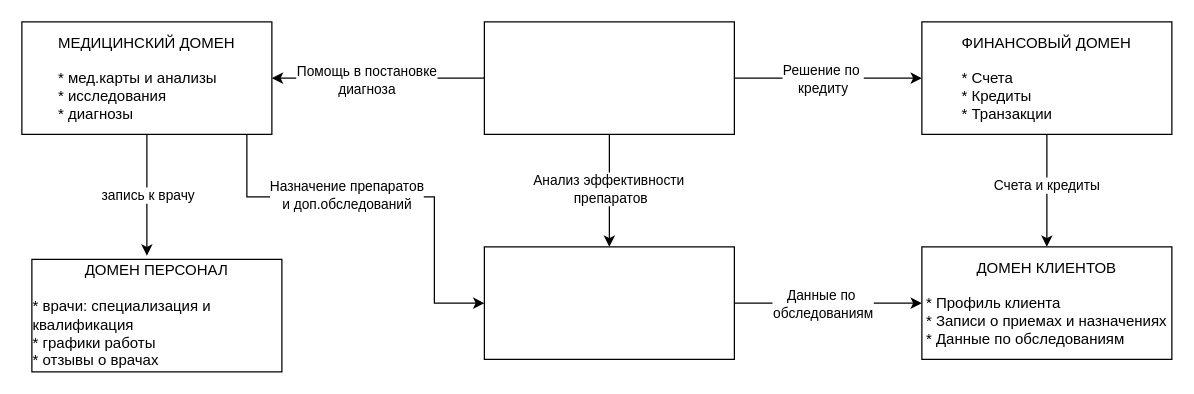
The diagram is 1194 pixels wide and 394 high, and some of its shapes have lost their labels. The shapes that lost their labels are listed below. From the top down, each one's box as (x1, y1, x2, y2) in pixels, then its label:
(483, 21, 734, 134): АНАЛИТИЧЕСКИЙ ДОМЕН * ML модели * Аналитика * Отчеты
(483, 246, 734, 359): ДОМЕН ПОСТАВЩИКОВ * Фармацевтика * Поставщики мед. исследований * Оборудование
